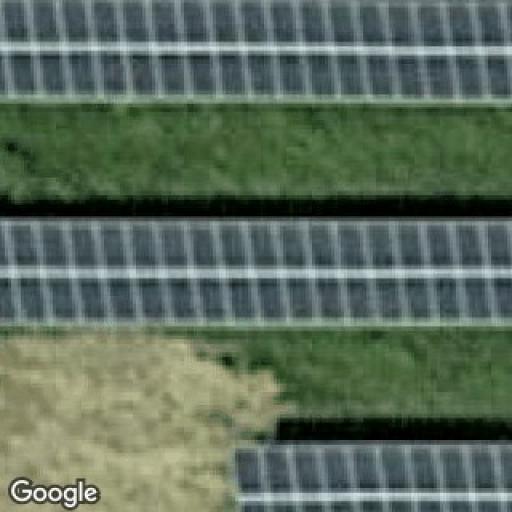solar-panel: (0, 218, 512, 330), (0, 0, 512, 107), (230, 441, 511, 512)
